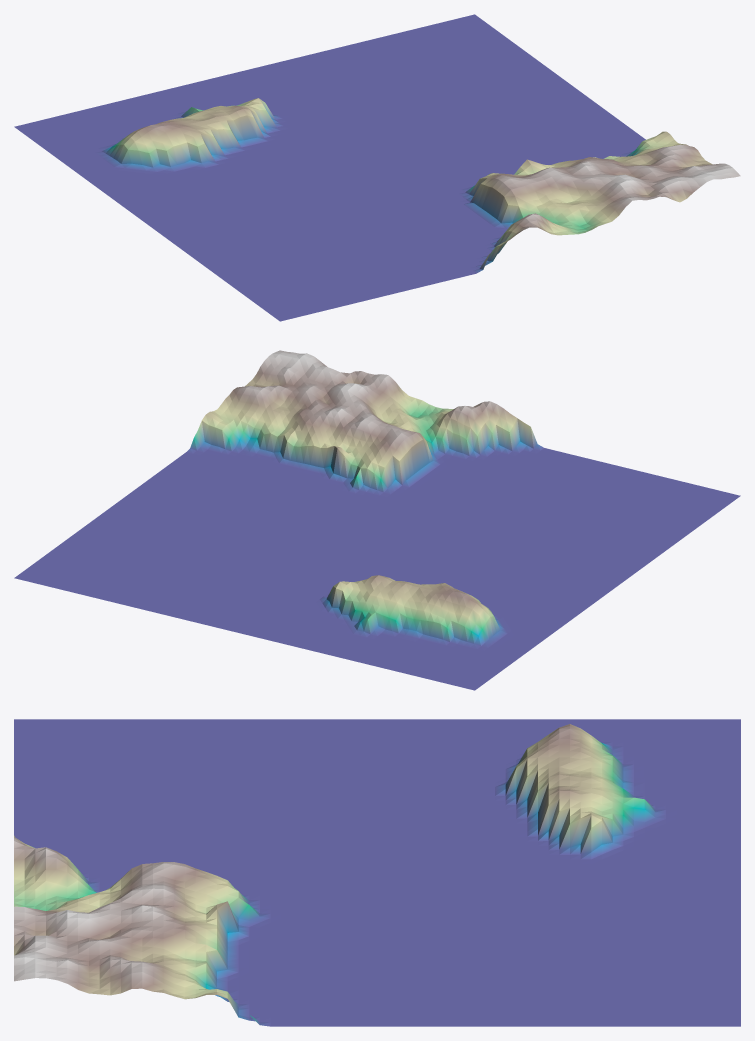
File: 001985_terrain_only.glb
3 views of the same model, one above another, from view 1: azimuth 30°, elevation 25°; view 2: azimuth 150°, elevation 25°; view 3: azimuth 270°, elevation 25° (orthographic). The views are drawn at different scales.
Parts seen in each view (by area): view 1: terrain; view 2: terrain; view 3: terrain.
Boxes of the visible parts, bbox=[...] form: terrain: bbox=[14, 14, 740, 321]; terrain: bbox=[14, 350, 740, 690]; terrain: bbox=[14, 719, 740, 1026].
Bounding box in the file's own units: 0.0183 × 0.00142 × 0.0183.
